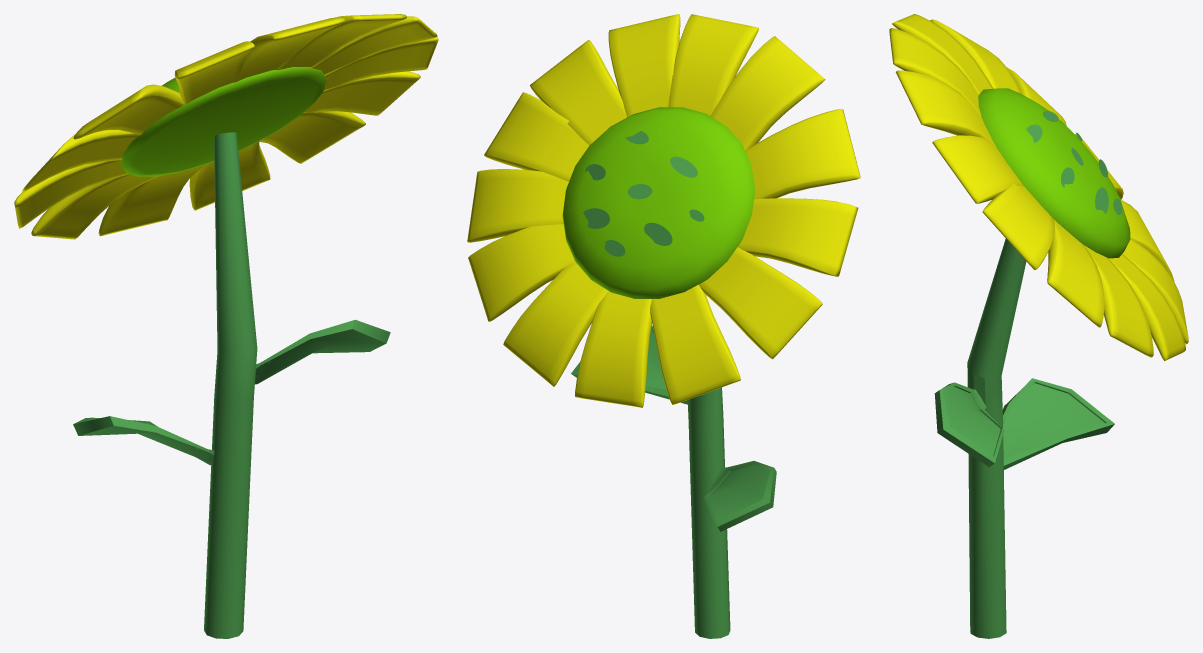
The model's file is Flower.fbx.
The picture shows the model from 3 angles, left to right: view 1: azimuth 30°, elevation 25°; view 2: azimuth 150°, elevation 25°; view 3: azimuth 270°, elevation 25°; orthographic projection. The views are drawn at different scales.
Parts seen in each view (by area): view 1: Flower2, Flower5, Flower16, Flower15, Flower3, Flower13, Flower12, Flower17, Flower6, Flower1, Flower11, Flower8 (+5 smaller); view 2: Flower5, Flower2, Flower17, Flower16, Flower6, Flower1, Flower15, Flower14, Flower7, Flower13, Flower8, Flower12 (+6 smaller); view 3: Flower2, Flower5, Flower4, Flower3, Flower12, Flower11, Flower10, Flower9, Flower13, Flower8, Flower14, Flower7 (+5 smaller).
Part boxes in pixels (left/top/right/bottom): Flower2: left=204, top=132, right=257, bottom=638; Flower5: left=120, top=67, right=326, bottom=176; Flower16: left=31, top=174, right=160, bottom=239; Flower15: left=98, top=163, right=208, bottom=236; Flower3: left=255, top=319, right=390, bottom=384; Flower13: left=259, top=111, right=365, bottom=163; Flower12: left=304, top=71, right=420, bottom=115; Flower17: left=14, top=160, right=129, bottom=228; Flower6: left=73, top=84, right=184, bottom=139; Flower1: left=22, top=130, right=139, bottom=191; Flower11: left=324, top=37, right=438, bottom=89; Flower8: left=234, top=17, right=344, bottom=82; Flower5: left=562, top=107, right=755, bottom=298; Flower2: left=687, top=387, right=730, bottom=638; Flower17: left=699, top=247, right=822, bottom=359; Flower16: left=650, top=284, right=740, bottom=404; Flower6: left=745, top=109, right=860, bottom=199; Flower1: left=738, top=198, right=858, bottom=276; Flower15: left=575, top=291, right=651, bottom=407; Flower14: left=503, top=262, right=608, bottom=386; Flower7: left=710, top=36, right=825, bottom=150; Flower13: left=468, top=224, right=575, bottom=321; Flower8: left=668, top=14, right=758, bottom=115; Flower12: left=467, top=169, right=568, bottom=242; Flower2: left=967, top=238, right=1026, bottom=638; Flower5: left=978, top=88, right=1130, bottom=258; Flower4: left=1002, top=378, right=1114, bottom=469; Flower3: left=934, top=382, right=1004, bottom=466; Flower12: left=1047, top=219, right=1104, bottom=327; Flower11: left=982, top=183, right=1054, bottom=270; Flower10: left=932, top=135, right=1023, bottom=203; Flower9: left=895, top=70, right=996, bottom=147; Flower13: left=1084, top=245, right=1153, bottom=357; Flower8: left=889, top=28, right=981, bottom=115; Flower14: left=1108, top=254, right=1185, bottom=360; Flower7: left=892, top=14, right=993, bottom=94.
Bounding box in the file's own units: 7.07 × 10.68 × 4.81.
